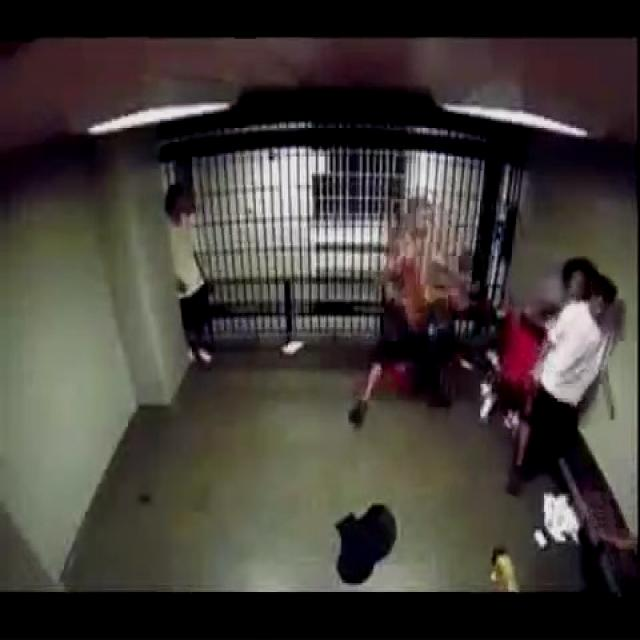fight: (344, 204, 457, 431)
